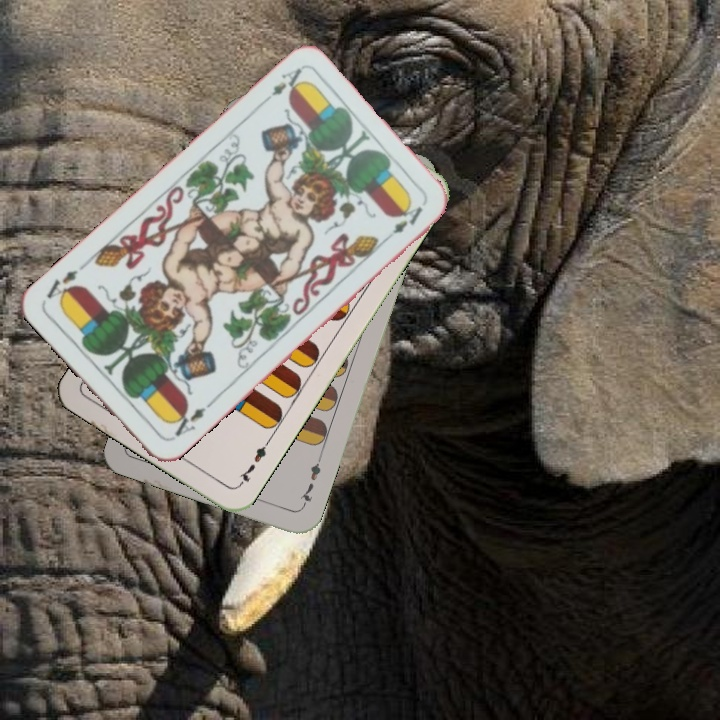E7: (234, 437, 272, 489), (295, 453, 325, 510)
EA: (256, 63, 307, 109), (166, 398, 215, 443)
